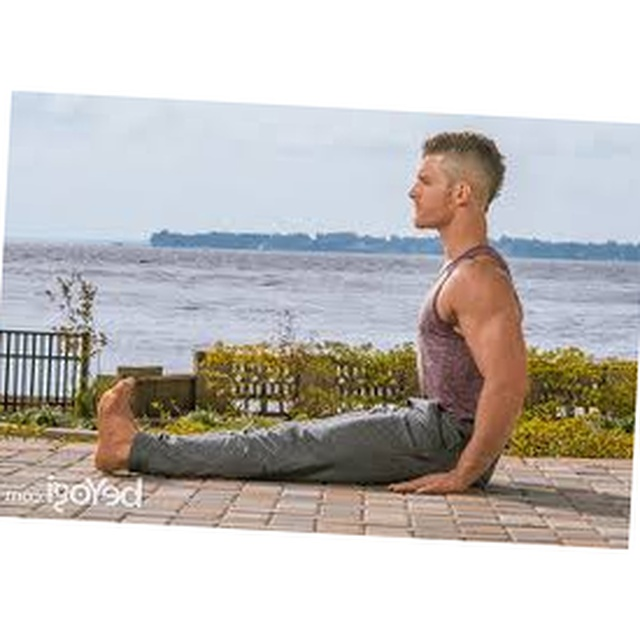Staff_Pose: (93, 131, 530, 492)
